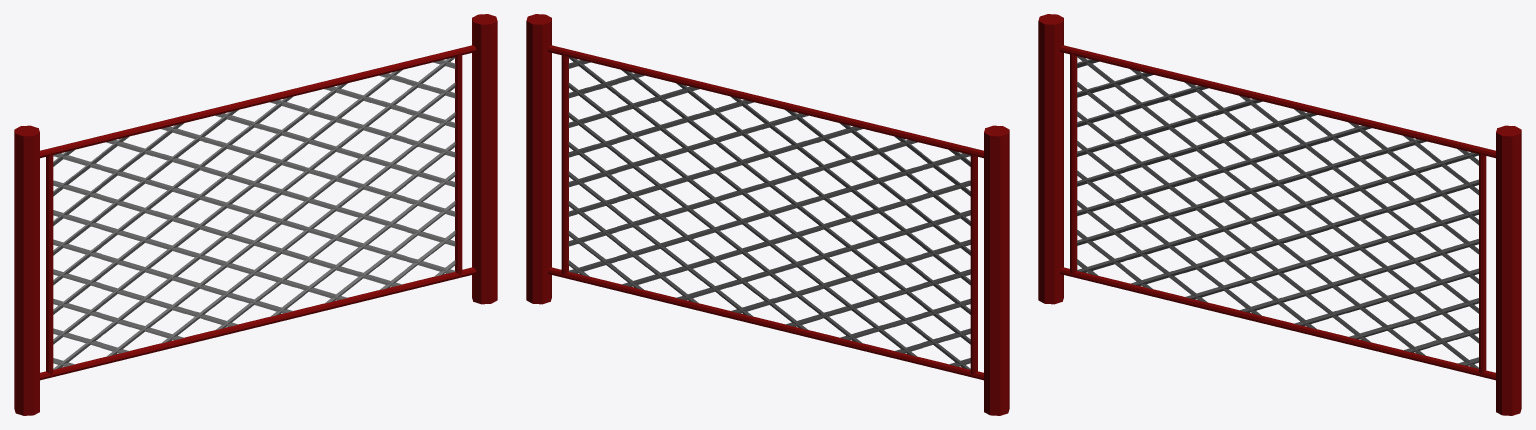
The model's file is Model_Plot1.fbx.
The picture shows the model from 3 angles, left to right: view 1: azimuth 30°, elevation 25°; view 2: azimuth 150°, elevation 25°; view 3: azimuth 330°, elevation 25°; orthographic projection.
Visible parts, largest first — view 1: Plane, Cylinder; view 2: Plane, Cylinder; view 3: Plane, Cylinder.
Part boxes in pixels (<box>): Plane: <box>53,57,455,369</box>; Cylinder: <box>14,14,497,415</box>; Plane: <box>568,57,970,369</box>; Cylinder: <box>526,14,1009,415</box>; Plane: <box>1077,56,1478,368</box>; Cylinder: <box>1038,14,1521,415</box>.
Size of the model in its own units: 17.24 by 200 by 360.
